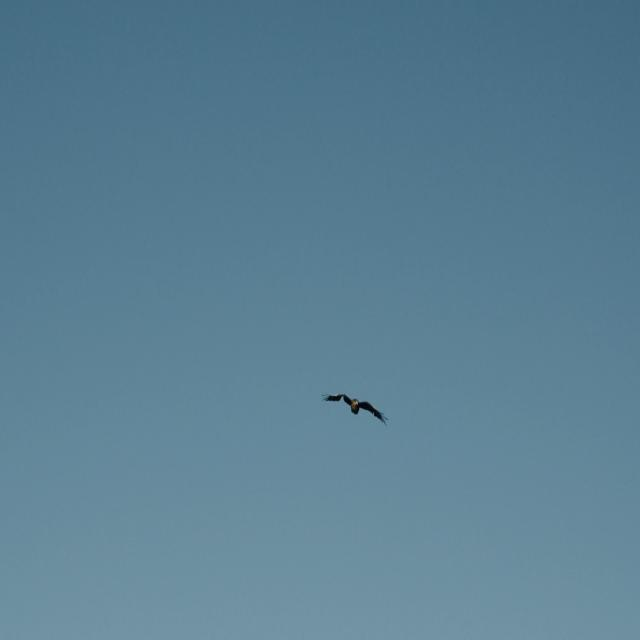bird: (319, 379, 386, 434)
